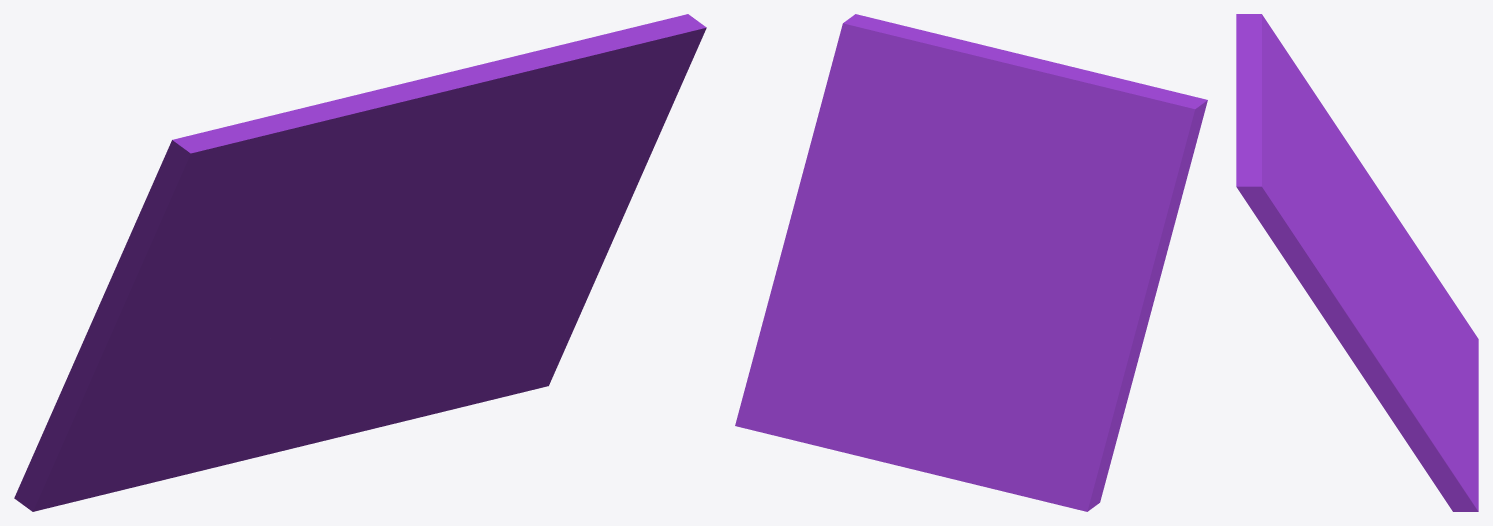
The model's file is Window_35_chunks.fbx.
3 views of the same model, side by side, from view 1: azimuth 30°, elevation 25°; view 2: azimuth 150°, elevation 25°; view 3: azimuth 270°, elevation 25° (orthographic). The views are drawn at different scales.
Parts seen in each view (by area): view 1: Window_35_0, Window_35_8, Window_35_11, Window_35_12, Window_35_13, Window_35_2, Window_35_6, Window_35_7, Window_35_5, Window_35_14, Window_35_9, Window_35_3 (+6 smaller); view 2: Window_35_11, Window_35_0, Window_35_2, Window_35_12, Window_35_3, Window_35_8, Window_35_6, Window_35_10, Window_35_1, Window_35_9, Window_35_14, Window_35_16 (+5 smaller); view 3: Window_35_2, Window_35_3, Window_35_11, Window_35_0, Window_35_6, Window_35_12, Window_35_8, Window_35_1, Window_35_9, Window_35_10, Window_35_14, Window_35_13 (+5 smaller).
Part boxes in pixels (x1,y1,x2,y2): Window_35_0: (419,24,706,206); Window_35_8: (14,367,247,511); Window_35_11: (126,89,380,256); Window_35_12: (83,232,306,379); Window_35_13: (279,66,506,238); Window_35_2: (461,152,651,302); Window_35_6: (422,295,585,416); Window_35_7: (336,263,541,339); Window_35_5: (334,313,432,438); Window_35_14: (304,152,455,302); Window_35_9: (245,291,336,408); Window_35_3: (550,14,704,171); Window_35_11: (1036,74,1207,226); Window_35_0: (854,14,991,179); Window_35_2: (755,189,889,349); Window_35_12: (1016,212,1176,352); Window_35_3: (798,15,909,202); Window_35_8: (1015,351,1139,511); Window_35_6: (735,322,857,449); Window_35_10: (986,264,1138,377); Window_35_1: (859,174,978,312); Window_35_9: (859,256,993,411); Window_35_14: (971,101,1052,277); Window_35_16: (900,424,1042,500); Window_35_2: (1312,271,1437,450); Window_35_3: (1239,173,1351,320); Window_35_11: (1236,14,1331,170); Window_35_0: (1236,115,1332,242); Window_35_6: (1403,381,1478,511); Window_35_12: (1325,109,1384,236); Window_35_8: (1402,224,1478,360); Window_35_1: (1321,195,1405,358); Window_35_9: (1363,247,1455,421); Window_35_10: (1365,198,1419,304); Window_35_14: (1284,143,1369,251); Window_35_13: (1236,65,1308,150).
Bounding box in the file's own units: 1059 × 930 × 628.
